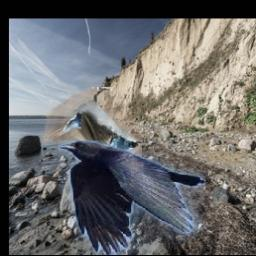Crow: (59, 140, 205, 255)
Swallow: (43, 87, 143, 163)
